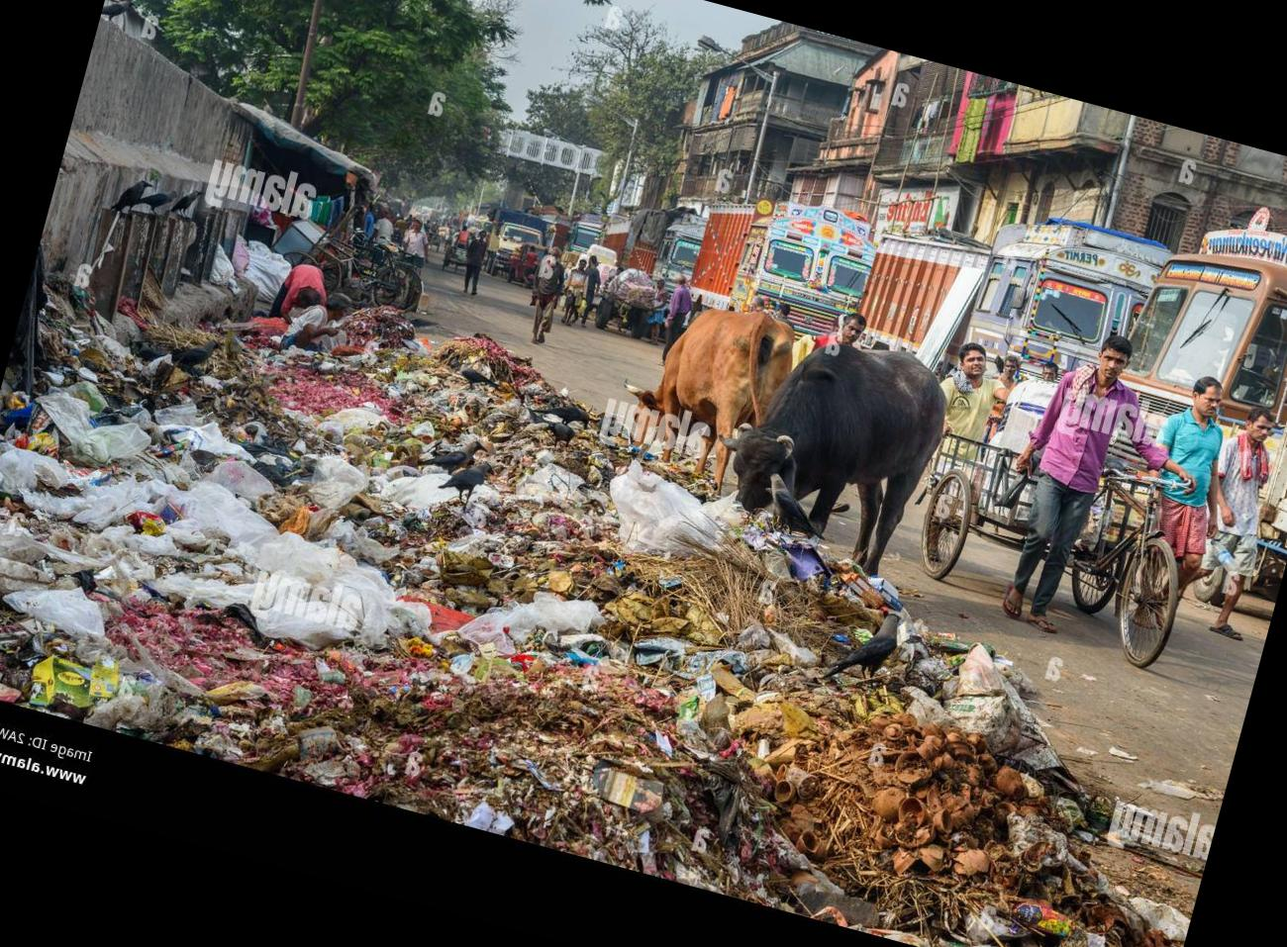trash: (0, 224, 1163, 947)
